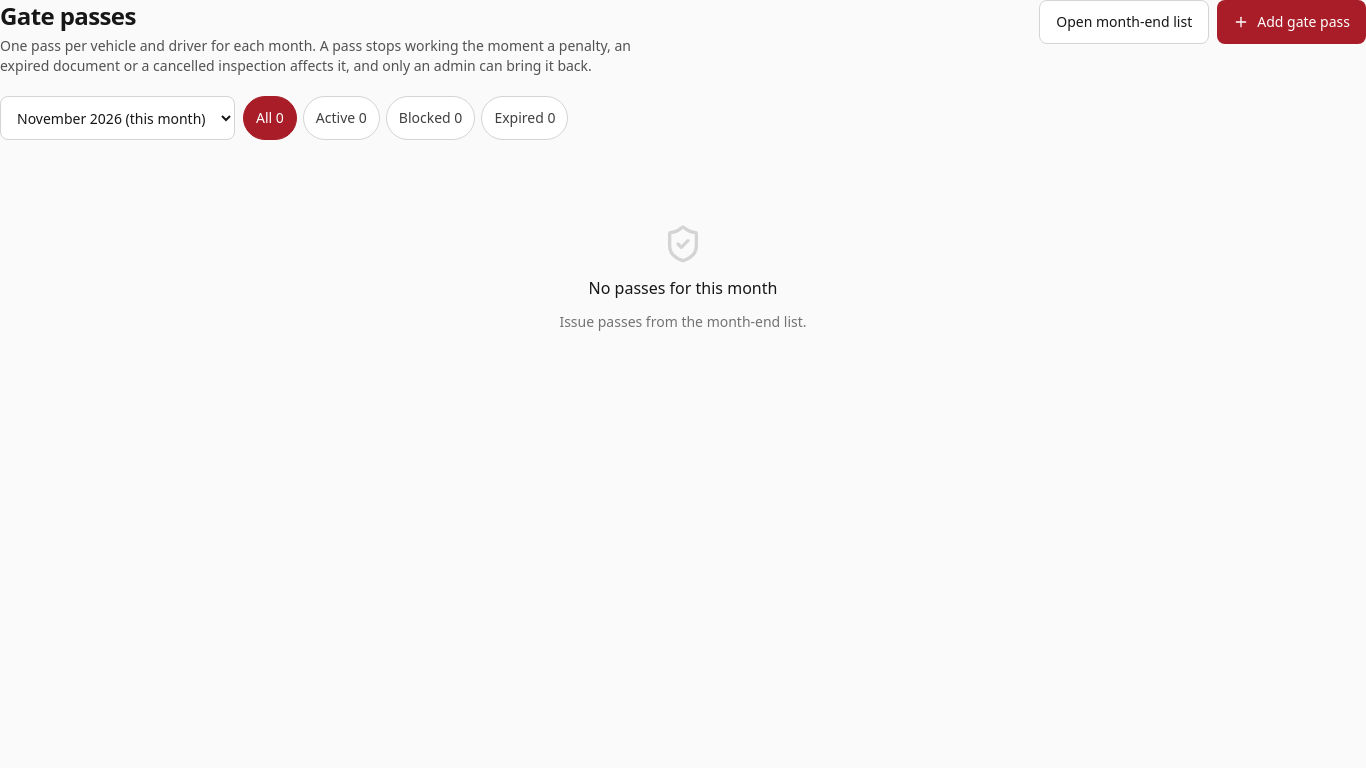
Test: GatePassesPage (Company Admin overview) › shows why a pass could not be added
The width and height of the screenshot is (1366, 768).
Click the button "Add gate pass" at [1292, 22], box [1217,0,1365,44]
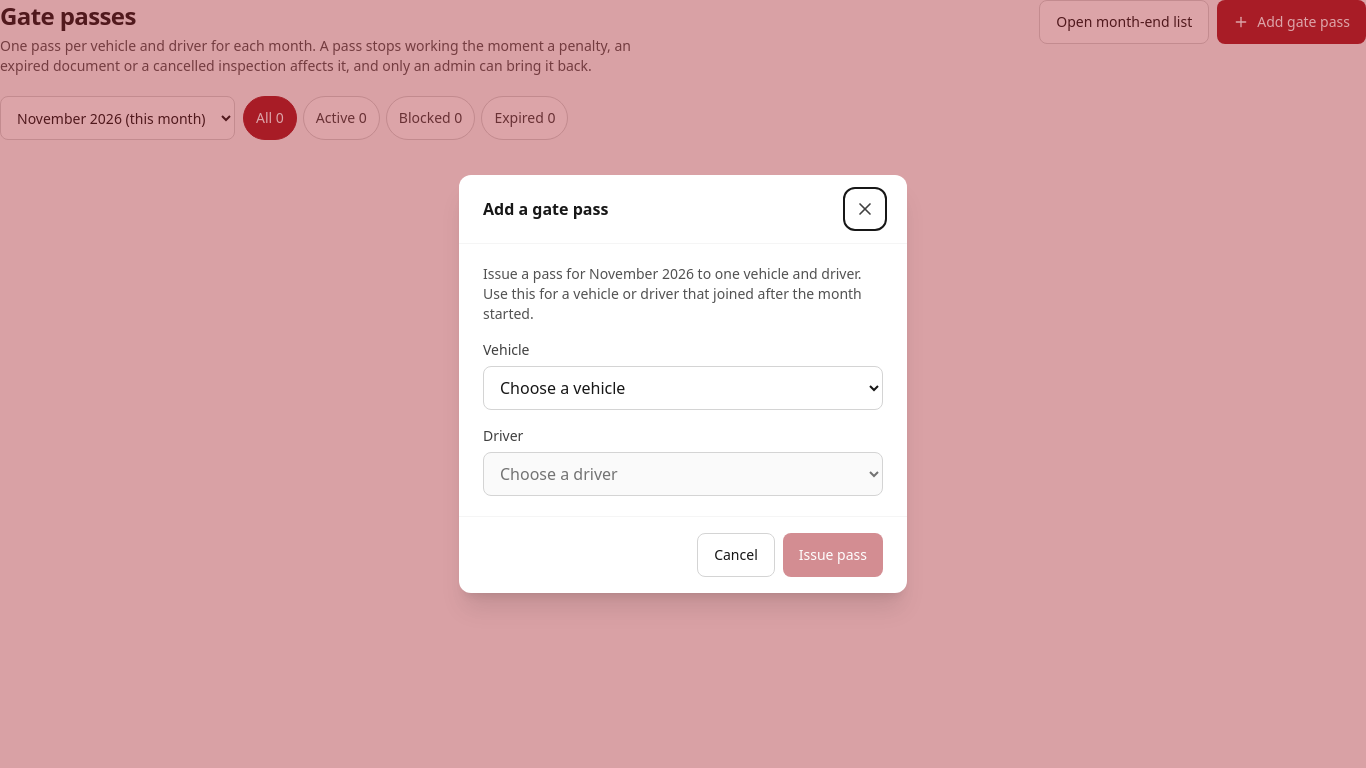
Select "WP LJ-4821" in the dropdown labelled "Vehicle" at [683, 388], box [483,366,883,410]
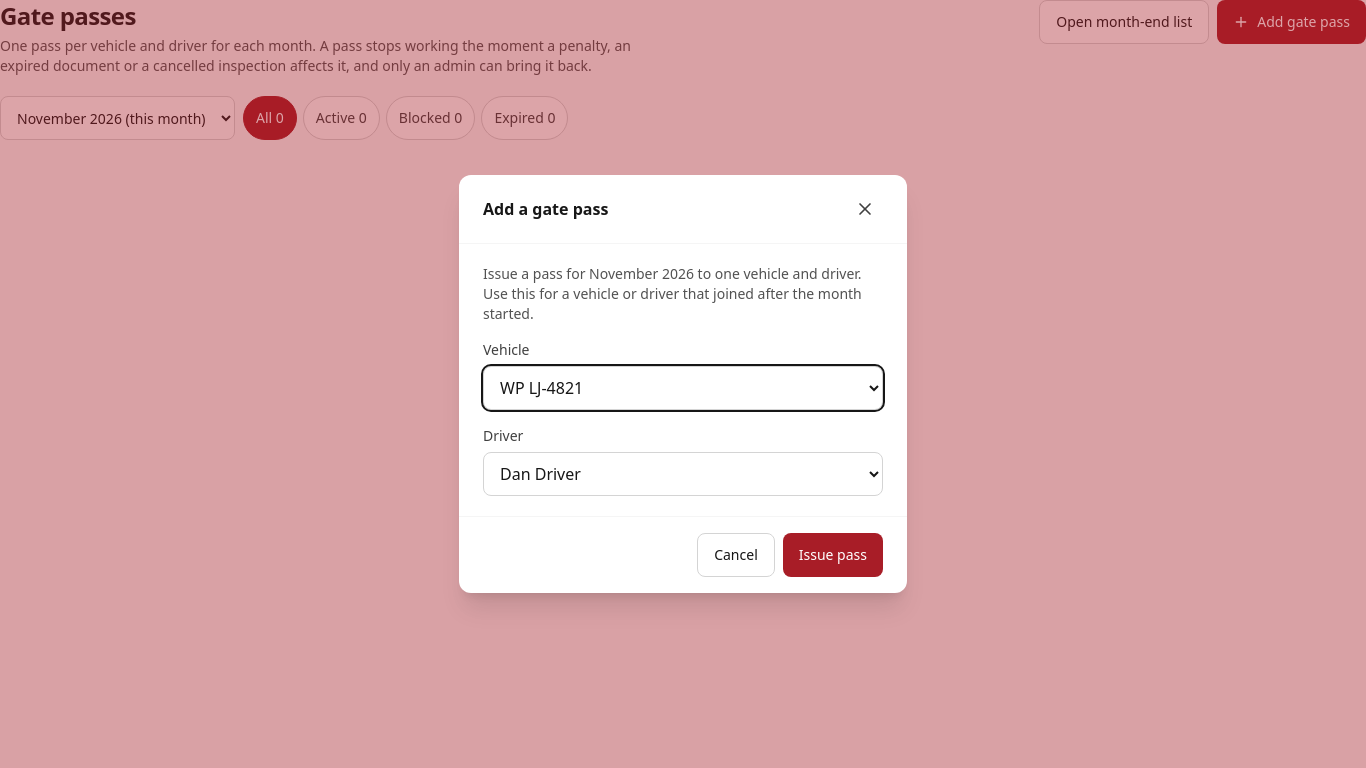
Click the button "Issue pass" at [833, 555], box [783,533,883,577]
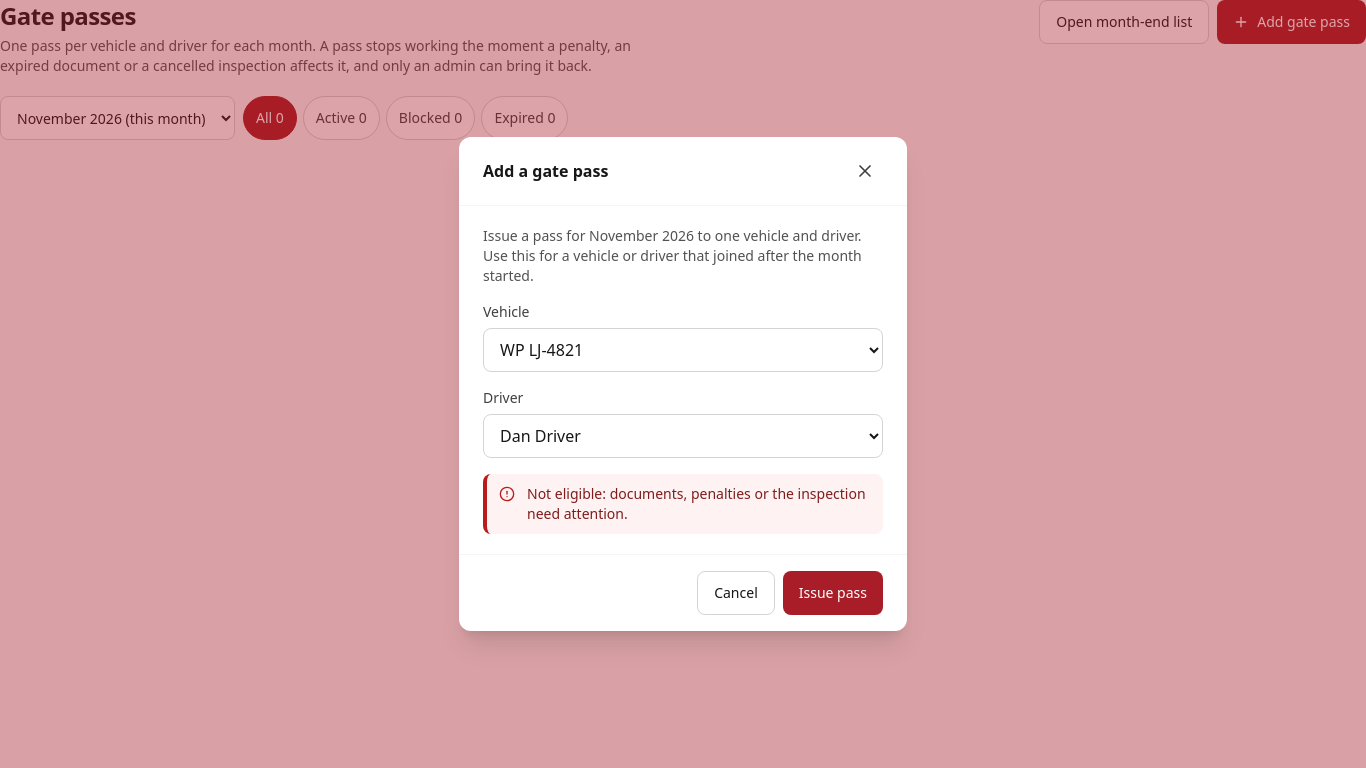
Check: the message "Not eligible: documents, penalties or the inspection need attention." is shown, box [483,474,883,534]
